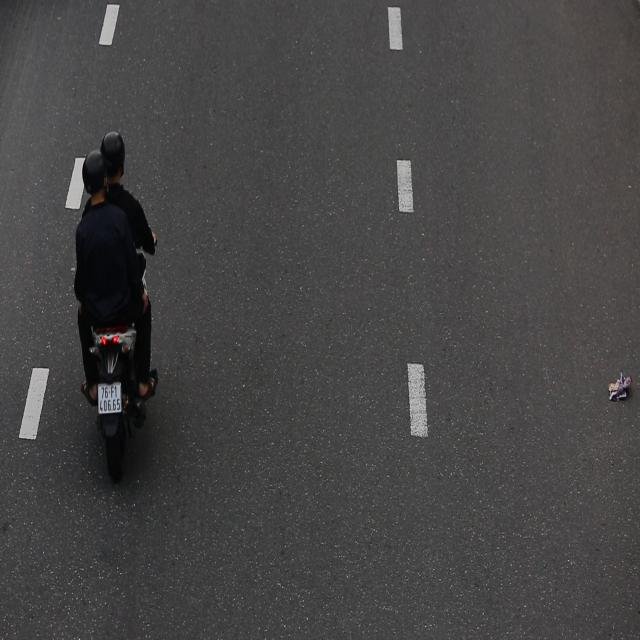motorbike: (58, 126, 162, 486)
